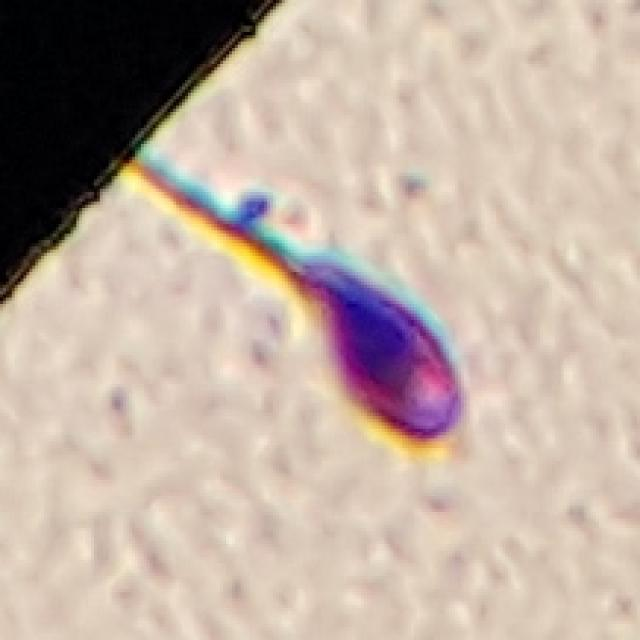normal sperm: (238, 219, 464, 442)
